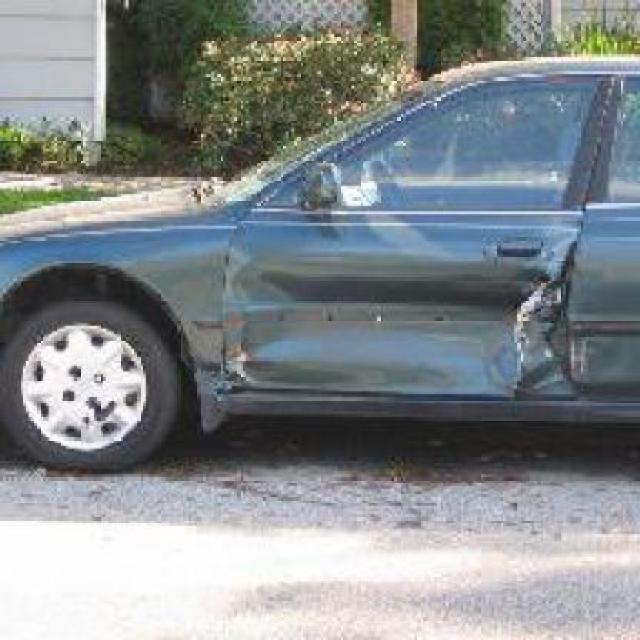damaged-door: (240, 69, 574, 402)
